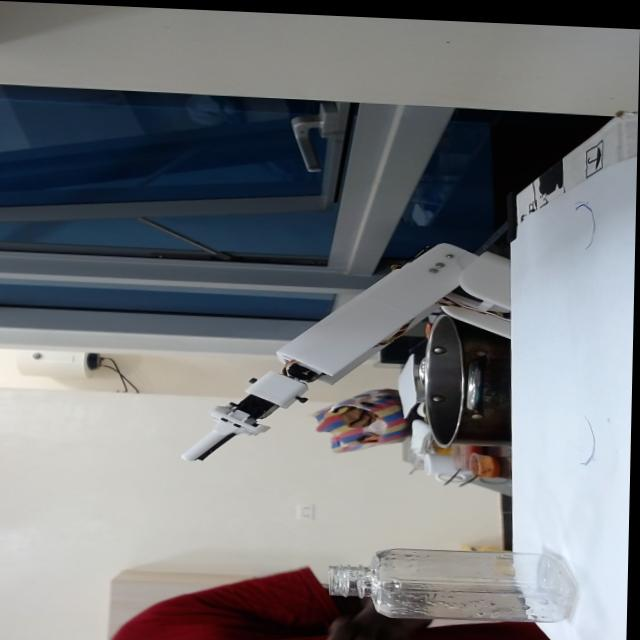cooking_pot: (409, 311, 513, 446)
